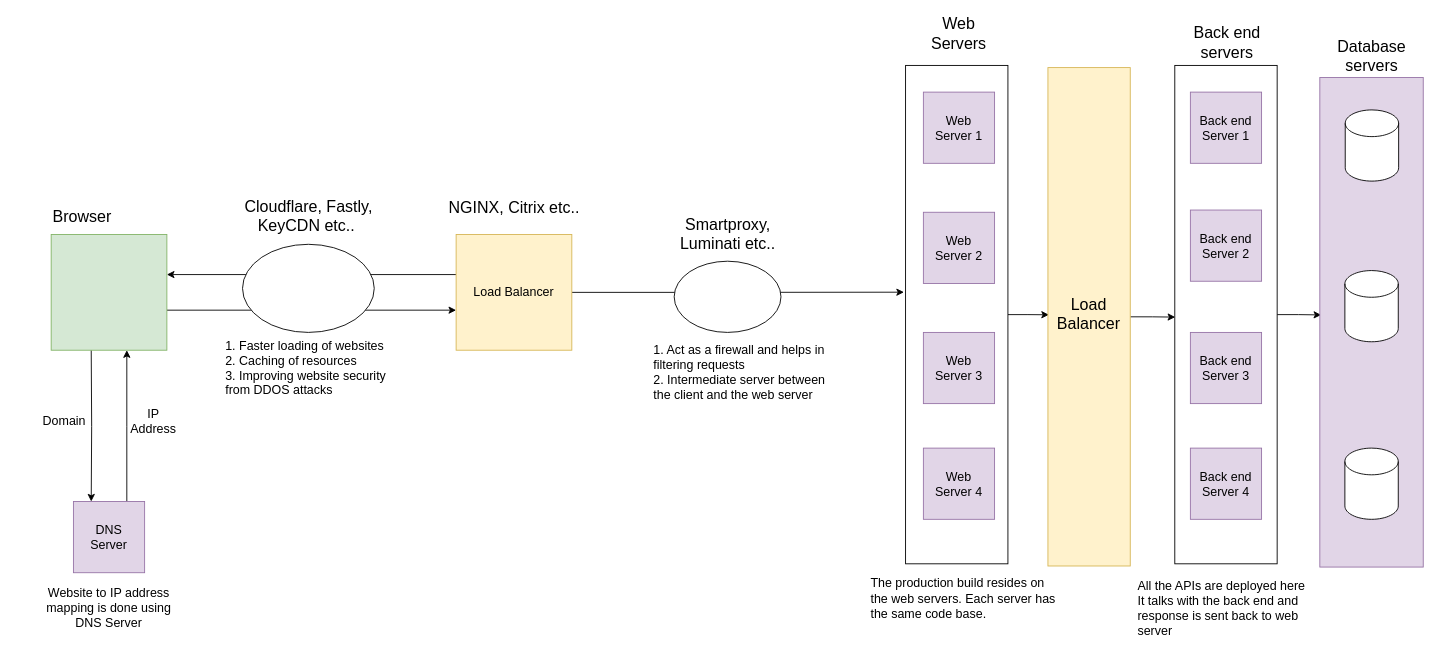
Image size: 1439x653. Some labels were removed from this diagram. The shapes that lost their labels are listed below. From the top down, each one's centre as x and y in pixels, then its label:
At [108,292]: "www.google.com".
At [308,287]: "CDN (Content Delivery Network)".
At [727,296]: "Proxy Server".
